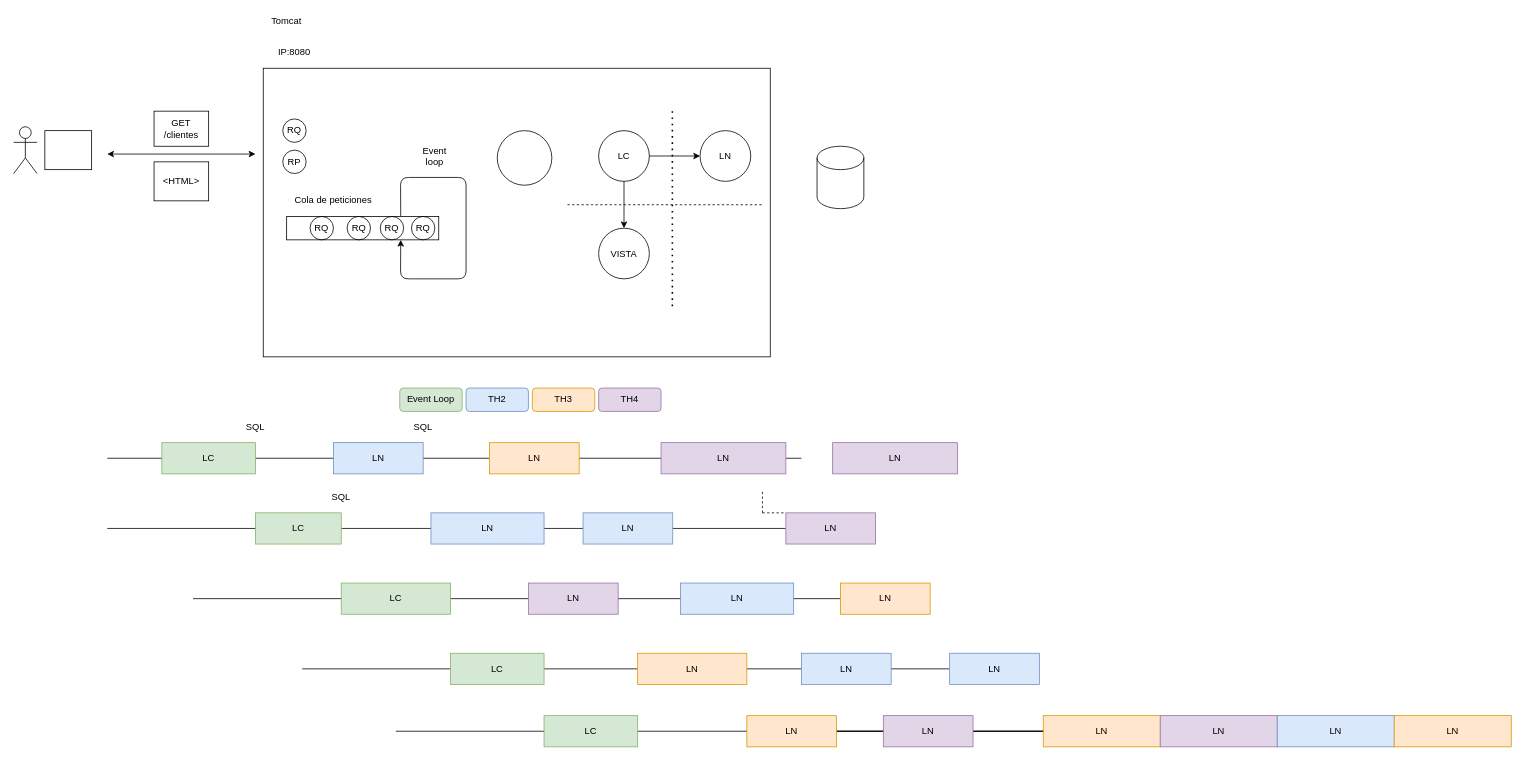
The diagram is 1525 pixels wide and 761 high, and some of its shapes have lost their labels. Each missing label, with the centre of its shape:
"Actor" goes at point 25,150.
"Dispatcher Handler" goes at point 524,157.
